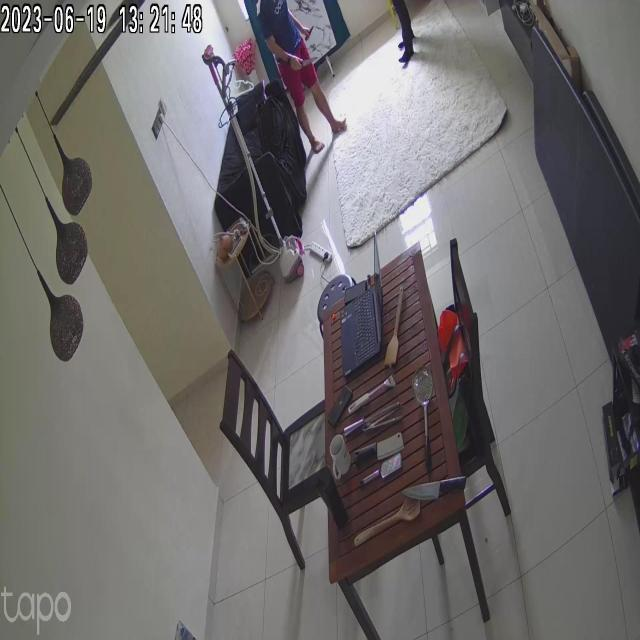Knife: (400, 473, 477, 505), (288, 54, 322, 78)
